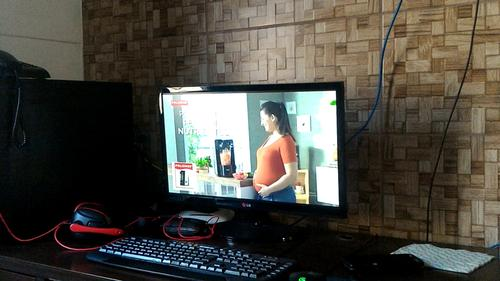Polishop #1: (172, 161, 196, 191)
